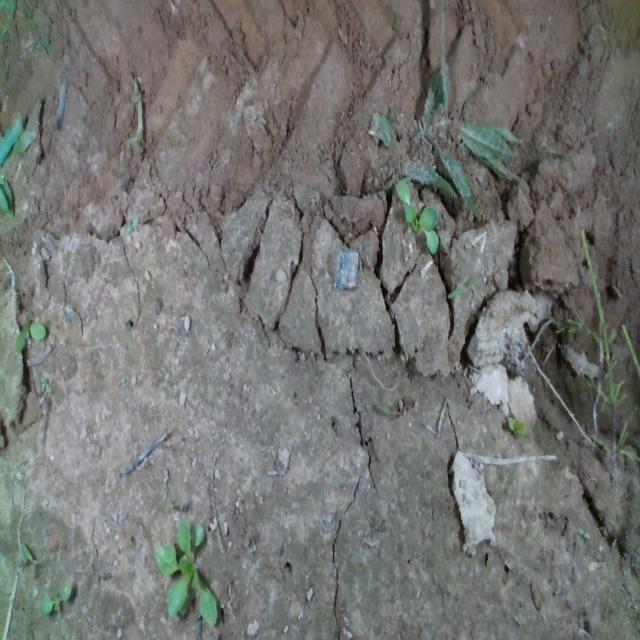weed: (38, 579, 72, 617), (14, 316, 46, 354), (446, 272, 476, 300), (505, 414, 528, 438), (38, 370, 52, 394), (123, 214, 139, 235), (576, 524, 591, 540)
